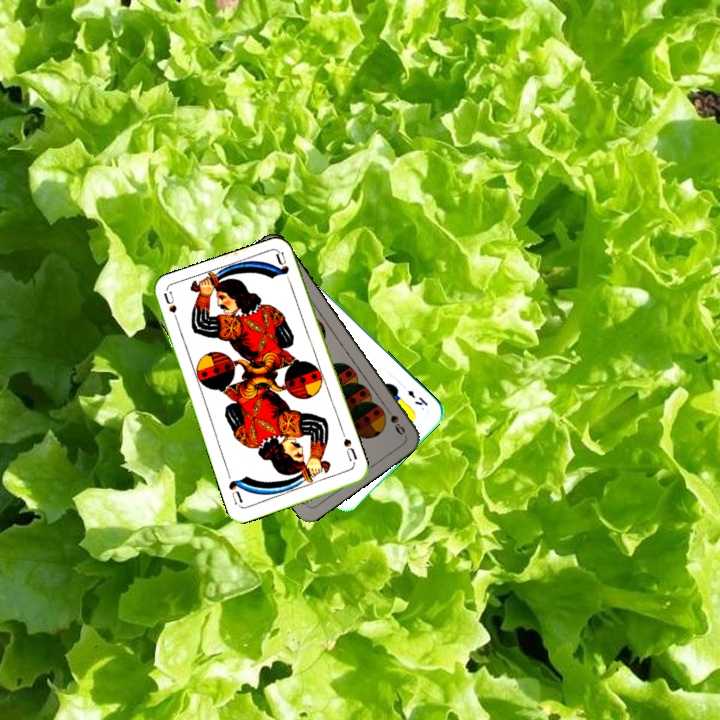EK: (403, 386, 431, 409)
S9: (380, 402, 408, 438)
SU: (160, 288, 182, 329), (339, 434, 360, 469)
